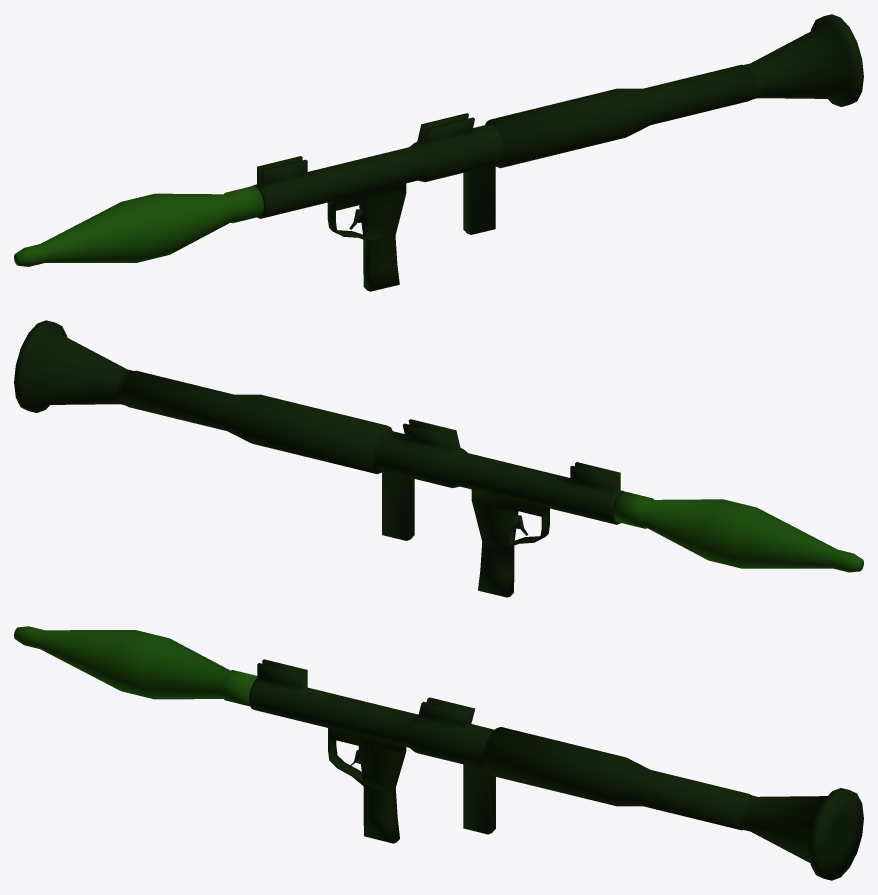
File: RPG-7 (2).fbx
The picture shows the model from 3 angles, top to bottom: view 1: azimuth 30°, elevation 25°; view 2: azimuth 150°, elevation 25°; view 3: azimuth 330°, elevation 25°; orthographic projection.
Visible parts, largest first — view 1: Handle, Bullet; view 2: Handle, Bullet; view 3: Handle, Bullet.
Part boxes in pixels (bbox=[...]): Handle: bbox=[252, 14, 863, 291]; Bullet: bbox=[14, 186, 263, 266]; Handle: bbox=[14, 320, 624, 597]; Bullet: bbox=[613, 491, 863, 572]; Handle: bbox=[249, 659, 863, 880]; Bullet: bbox=[14, 626, 257, 706].
Size of the model in its own units: 4930 by 900 by 481.
